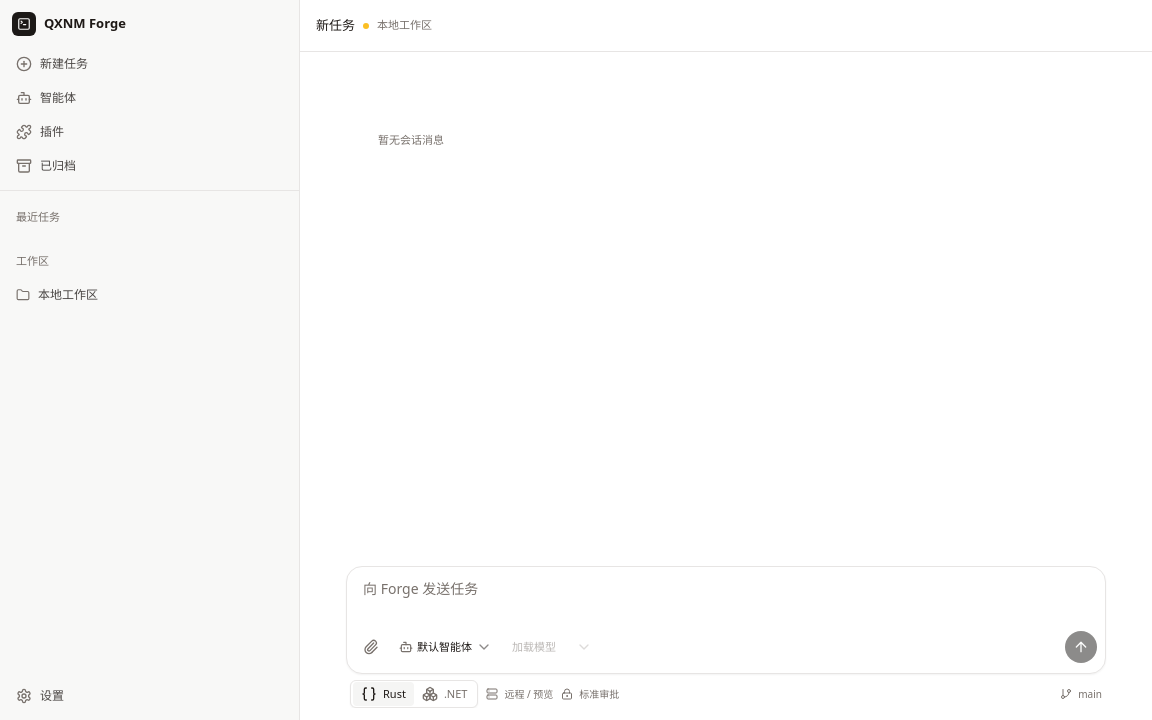
App fail-closed boundaries › renders durable provider failures in the conversation
In the text box named "任务消息": (726, 602) [355,575,1097,629], type "触发失败"
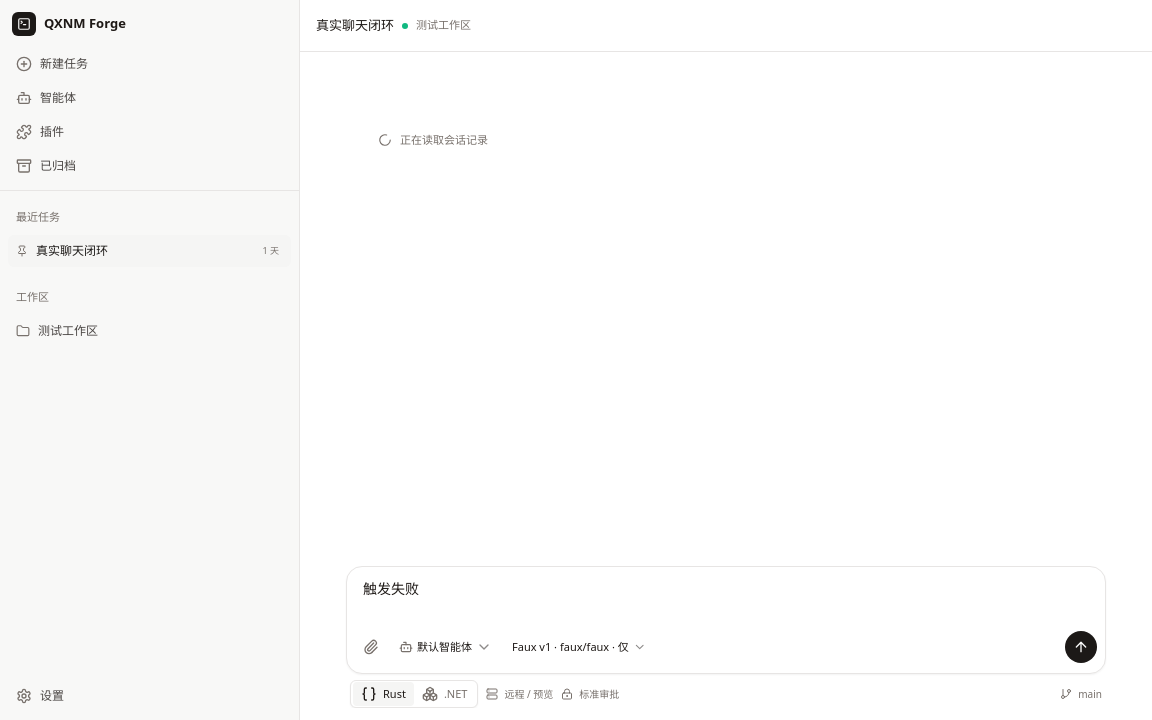
Check: the button named "发送任务" is enabled
Click the button named "发送任务": (1081, 647) [1065,631,1097,663]
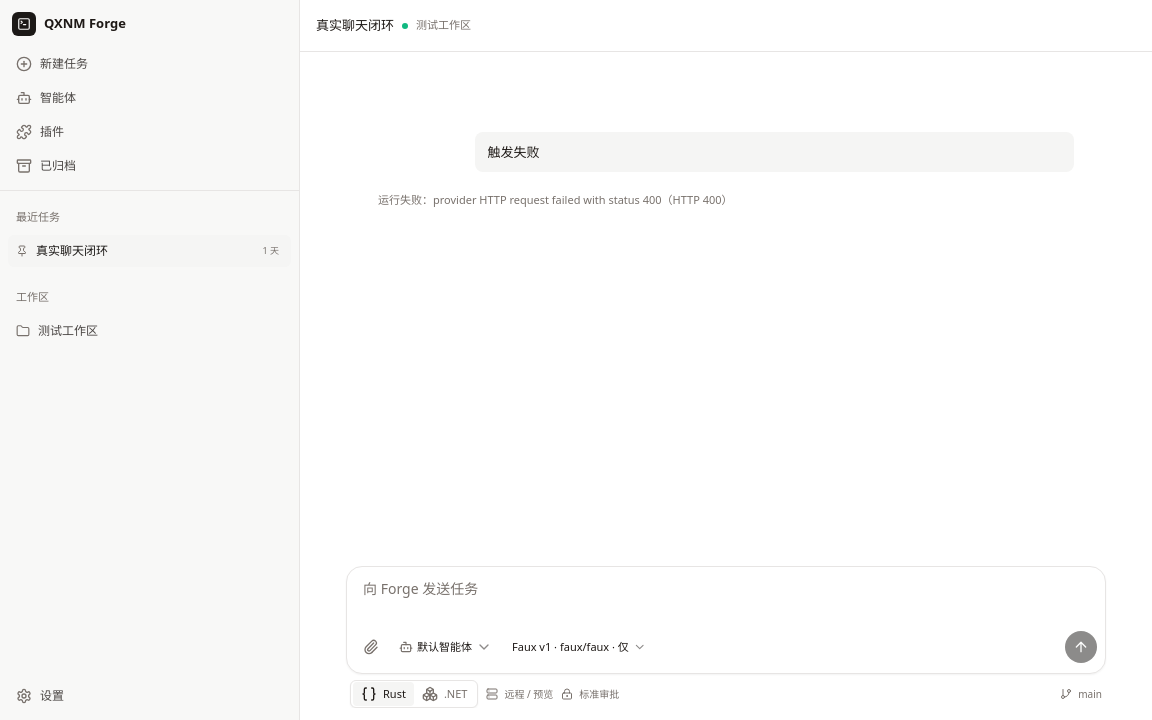
Check: the text "运行失败：provider HTTP request failed with status 400（HTTP 400）" is shown, box [378,192,733,207]
